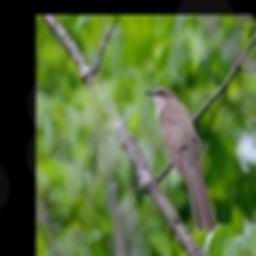Cuckoo: (144, 86, 216, 232)
